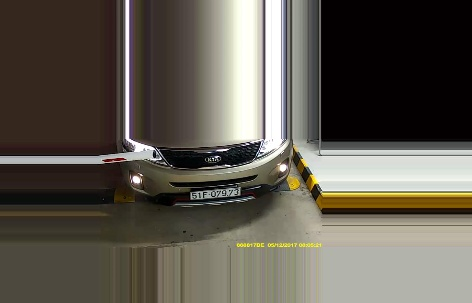plate: (188, 186, 242, 201)
